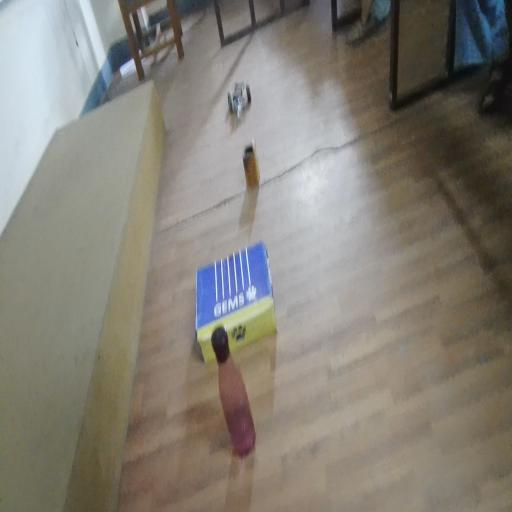Bottle: (207, 327, 264, 469)
car: (226, 70, 268, 133)
